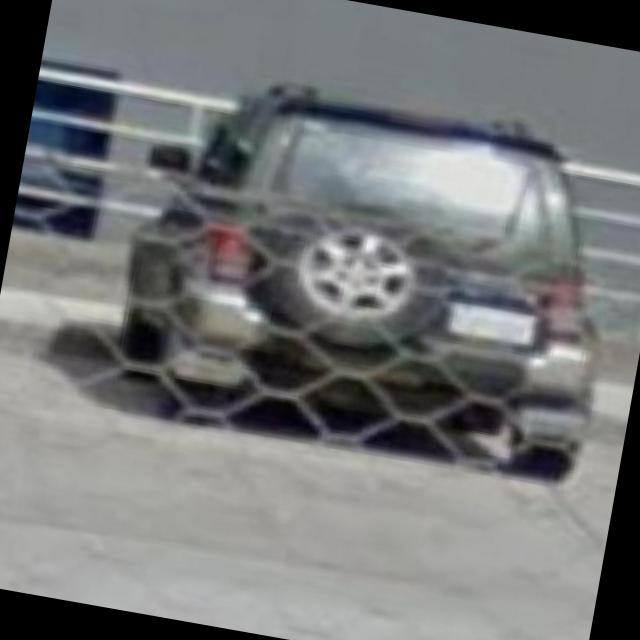car: (108, 68, 632, 489)
